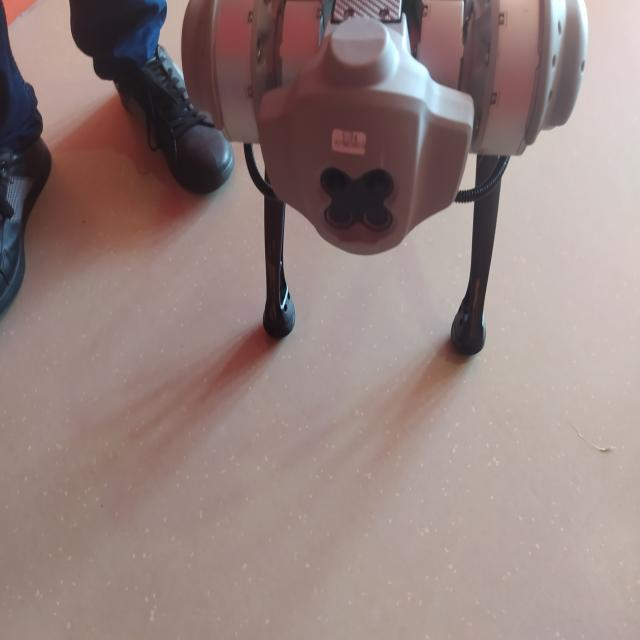unitree-go1-robot: (167, 0, 603, 371)
